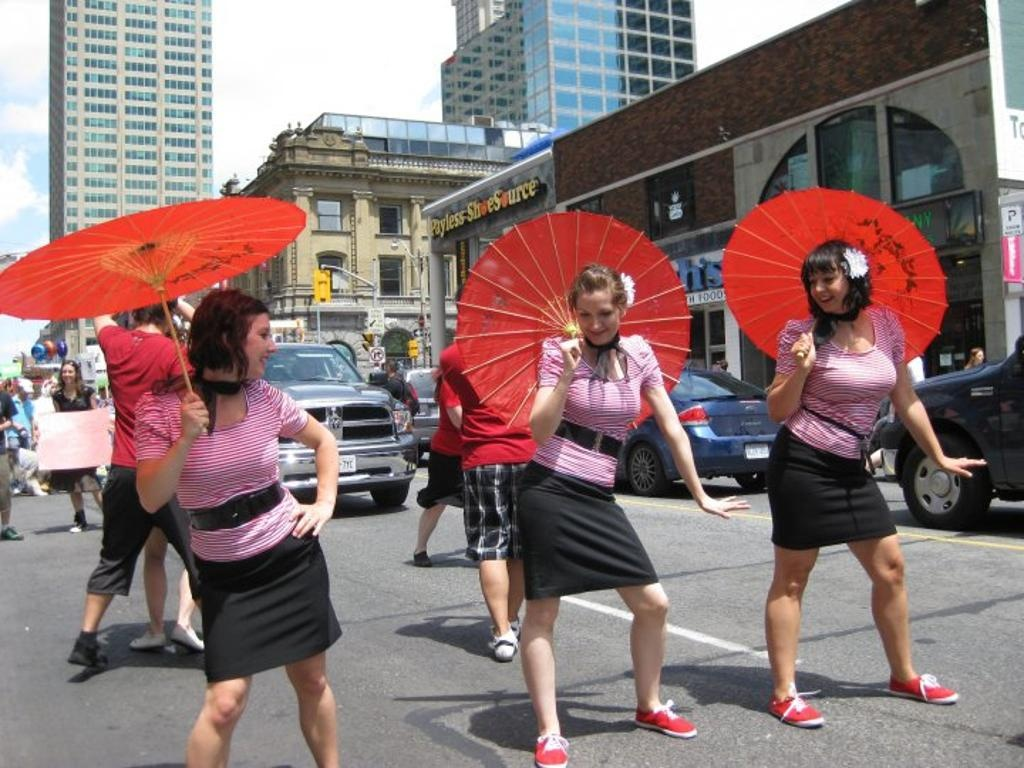human_face: (224, 319, 274, 377), (810, 262, 852, 312), (578, 294, 618, 344), (60, 366, 74, 384), (974, 352, 982, 362)
